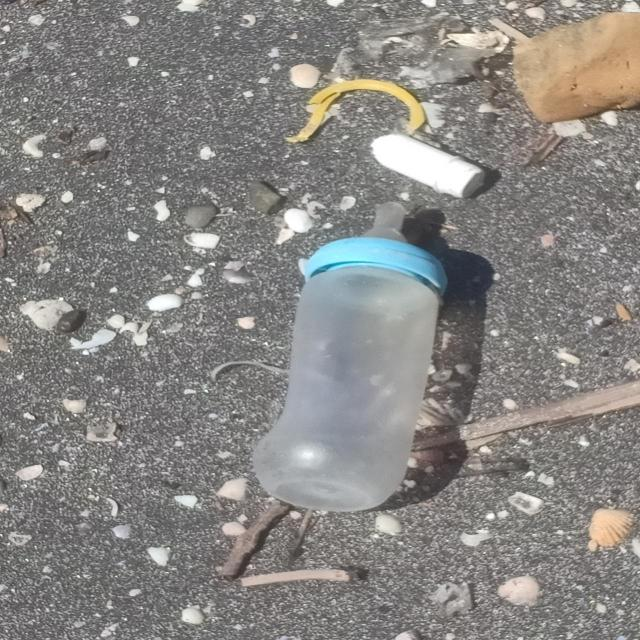plastic_waste: (251, 201, 451, 515)
